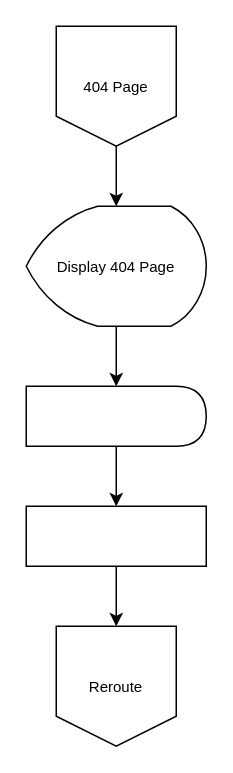
Some shapes in this 233 by 773 pixel diagram are drawn without their labels. The shapes that lost their labels are listed below. From the top down, each one's centre as x and y in pixels, then its label:
point (115, 415): Wait for student to press "Go Back"
point (115, 535): Change requestPath to /dashboard/
